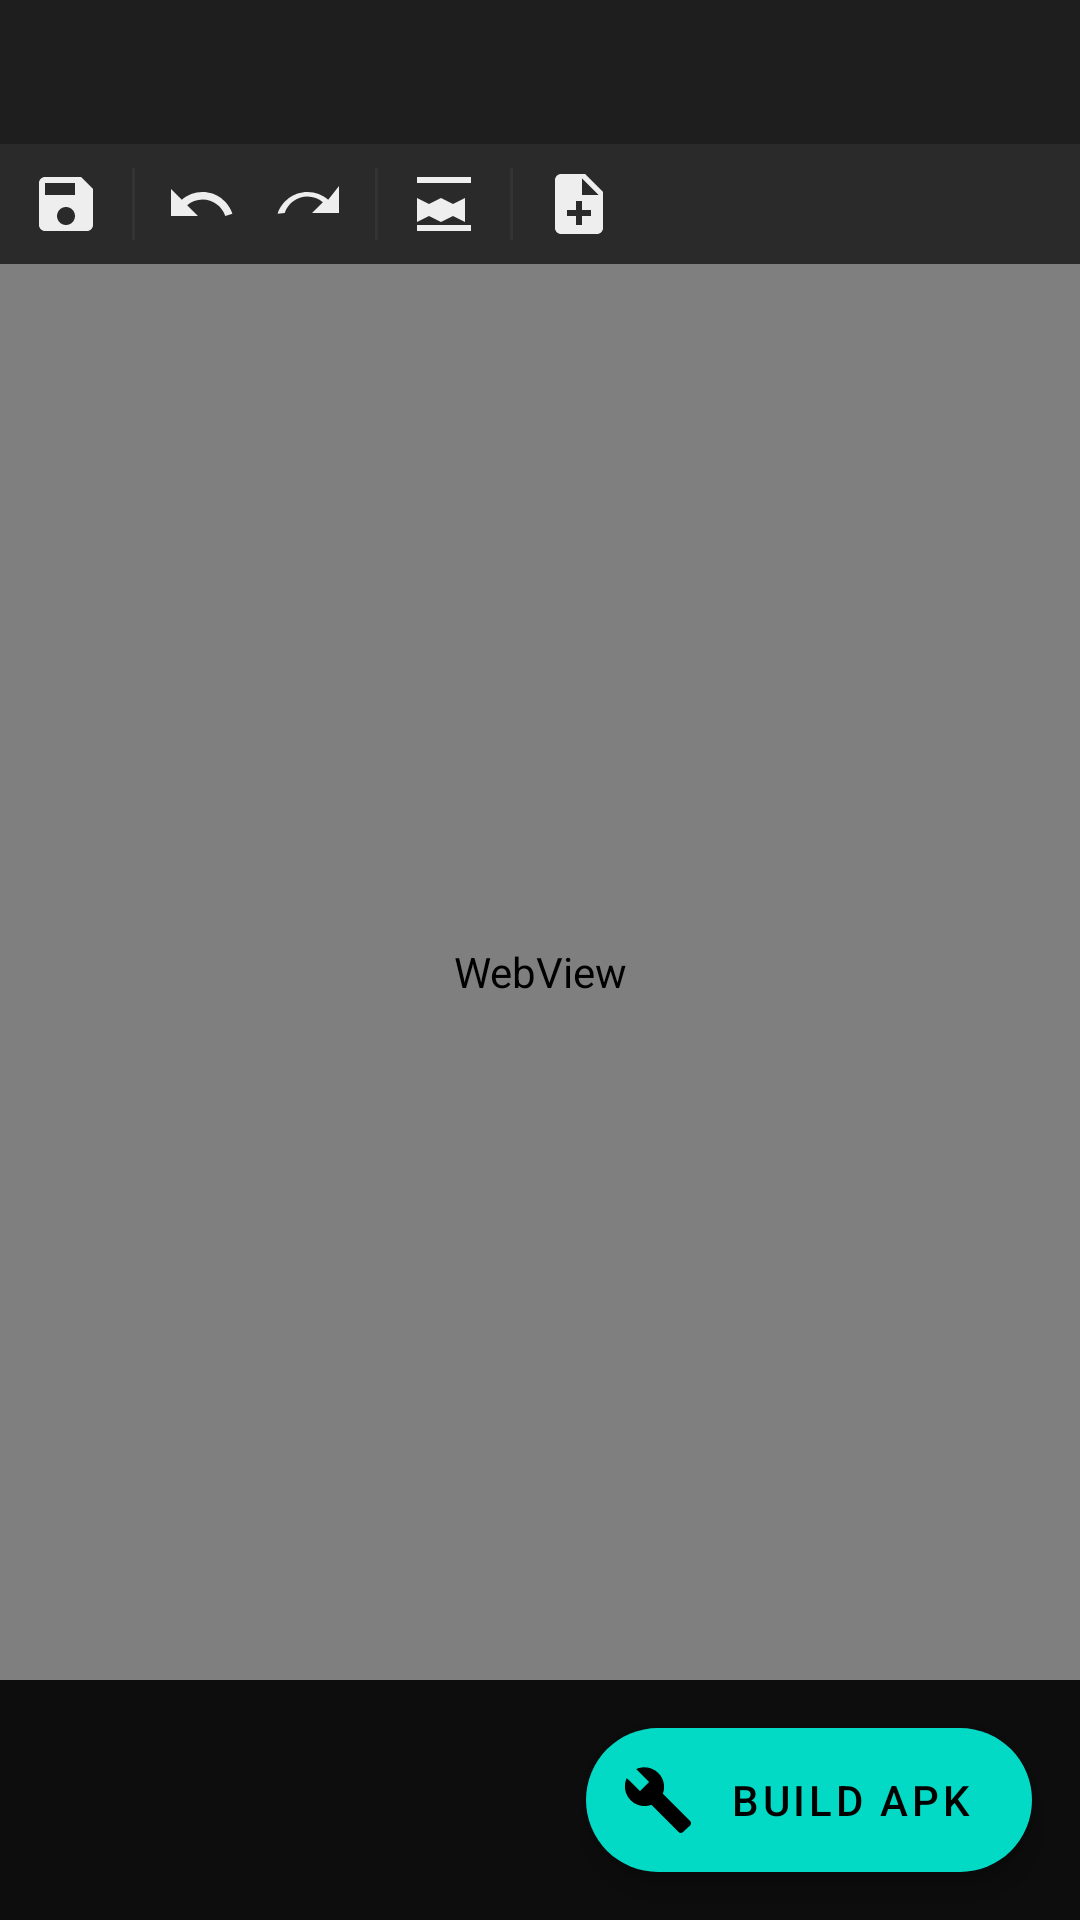

Icon click points for this 1080×1920 phone screenshot, format point (x, y):
Add File: point (579, 204)
Format: point (444, 204)
Redo: point (308, 200)
Save: point (66, 204)
Undo: point (202, 202)
